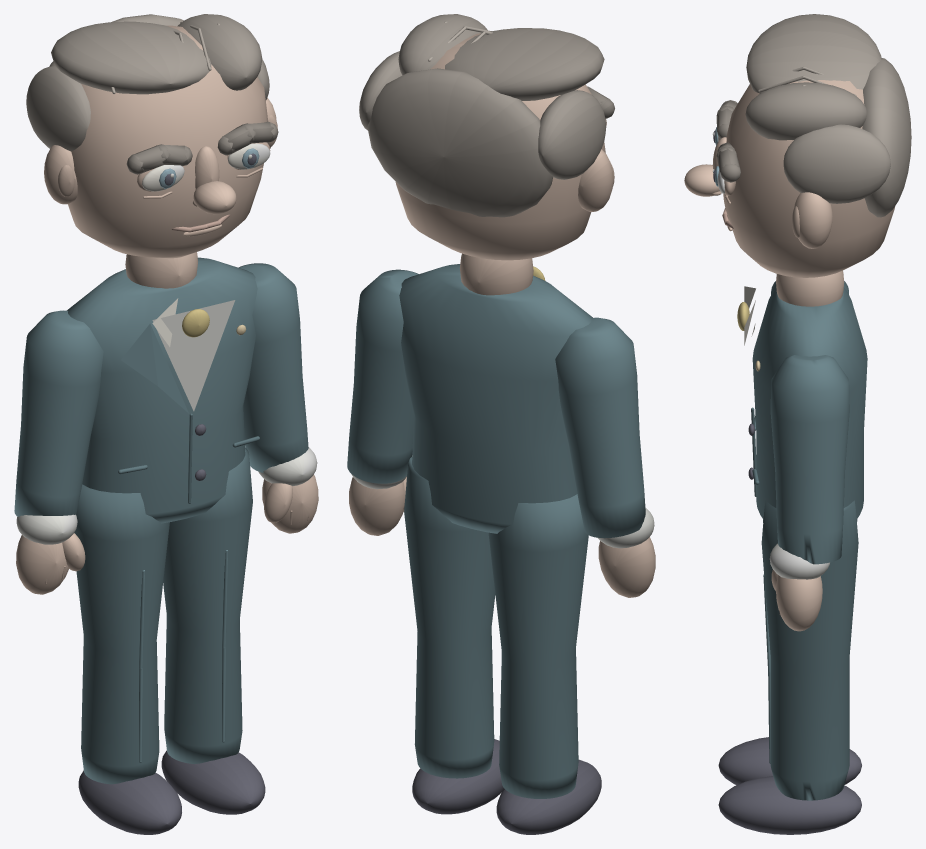
File: paddy_ashdown_1990_v1.glb
The picture shows the model from 3 angles, left to right: view 1: azimuth 30°, elevation 25°; view 2: azimuth 150°, elevation 25°; view 3: azimuth 270°, elevation 25°; orthographic projection. The views are drawn at different scales.
Visible parts, largest first — view 1: Paddy Ashdown; view 2: Paddy Ashdown; view 3: Paddy Ashdown.
Boxes of the visible parts, x1,y1,x2,y2 form: Paddy Ashdown: [14, 14, 318, 834]; Paddy Ashdown: [347, 14, 655, 834]; Paddy Ashdown: [684, 14, 911, 834].
Bounding box in the file's own units: 1.86 × 4.65 × 1.26.
